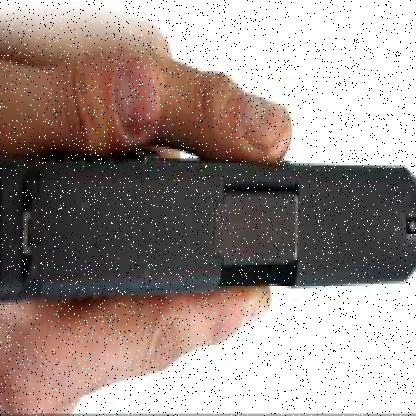pistol: (1, 147, 413, 296)
